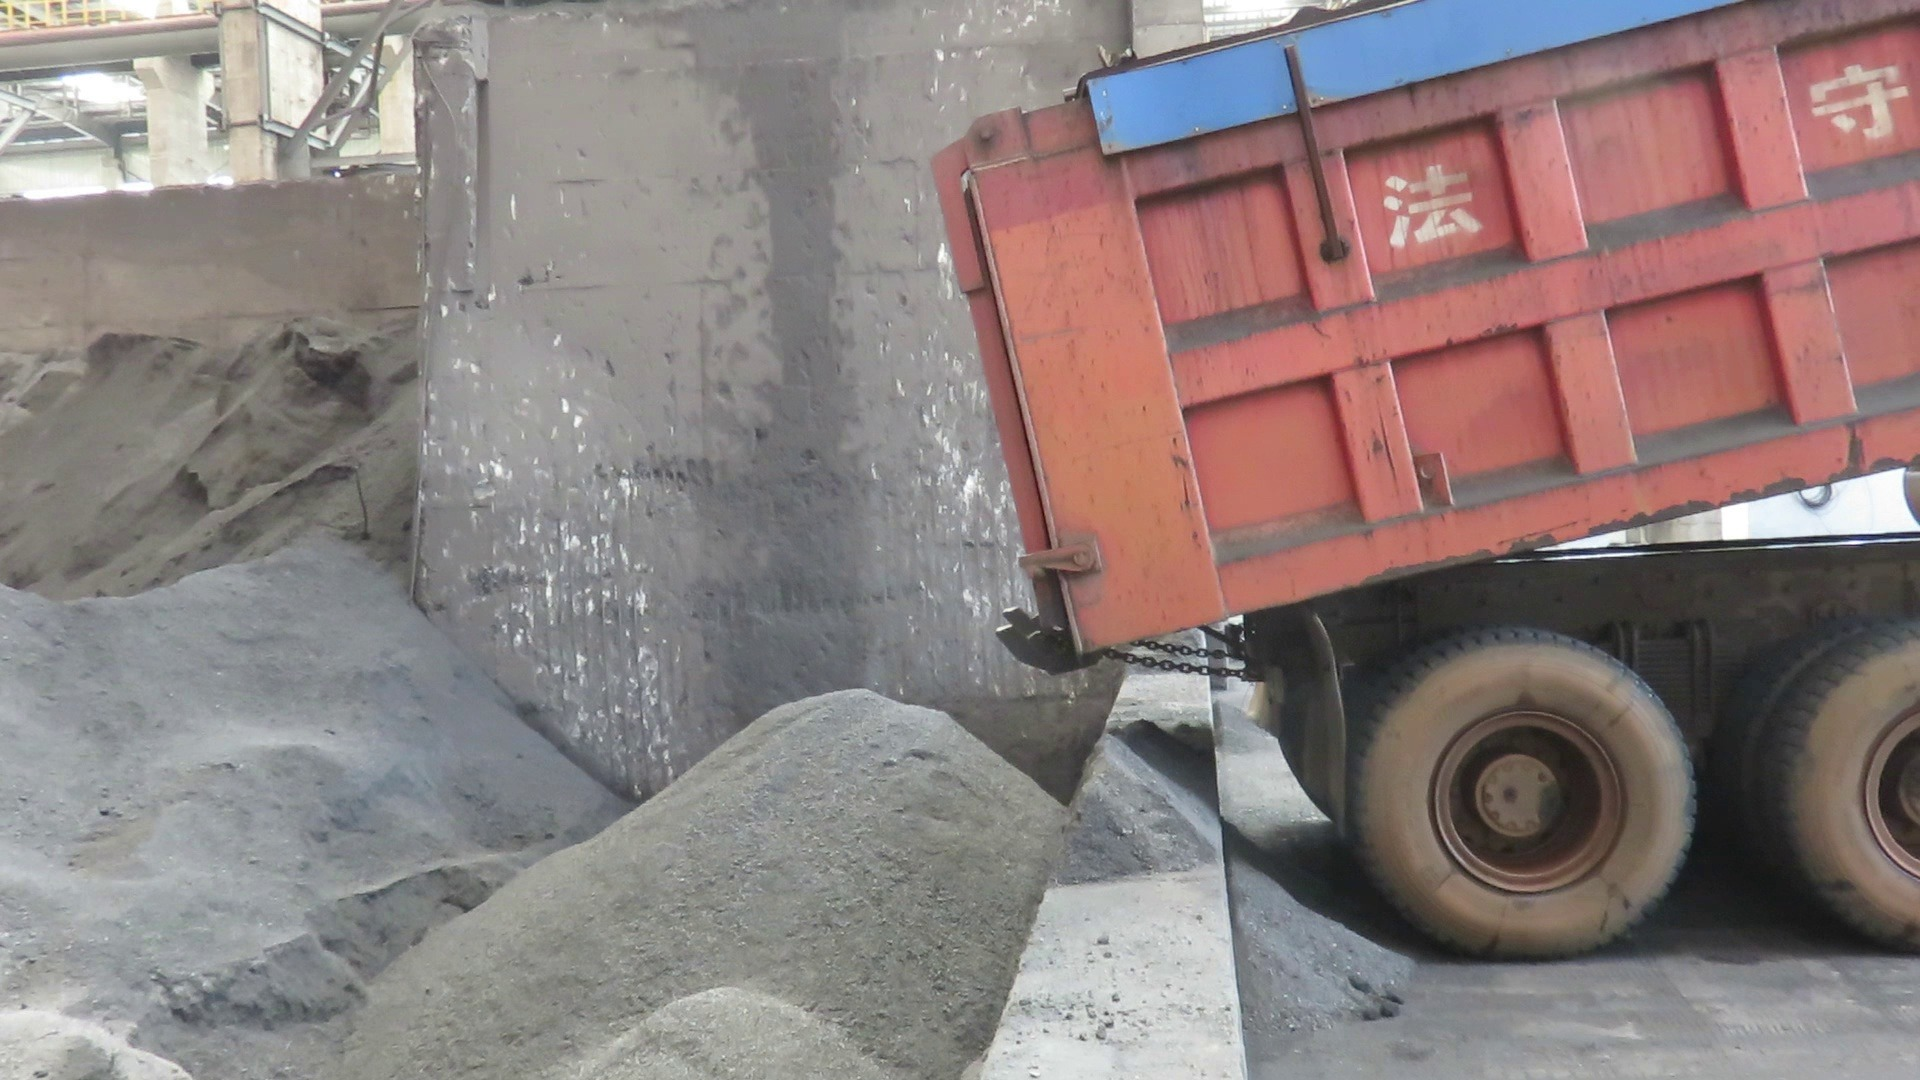truck: (918, 0, 1920, 976)
